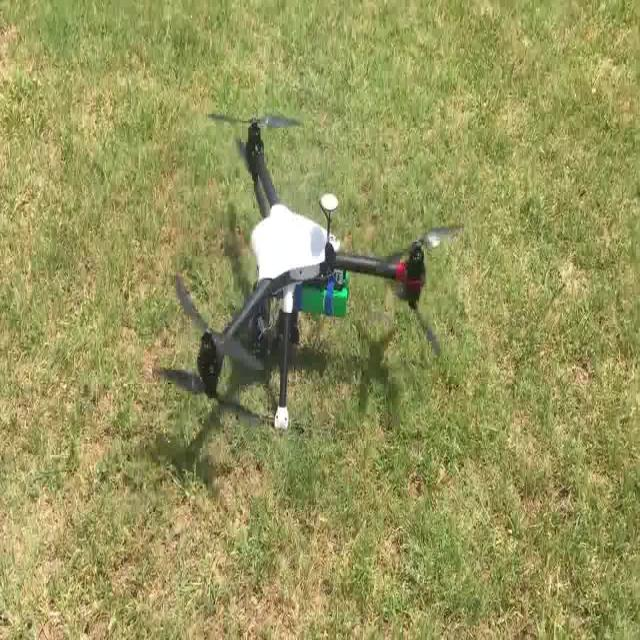Drone_FW: (152, 109, 464, 432)
